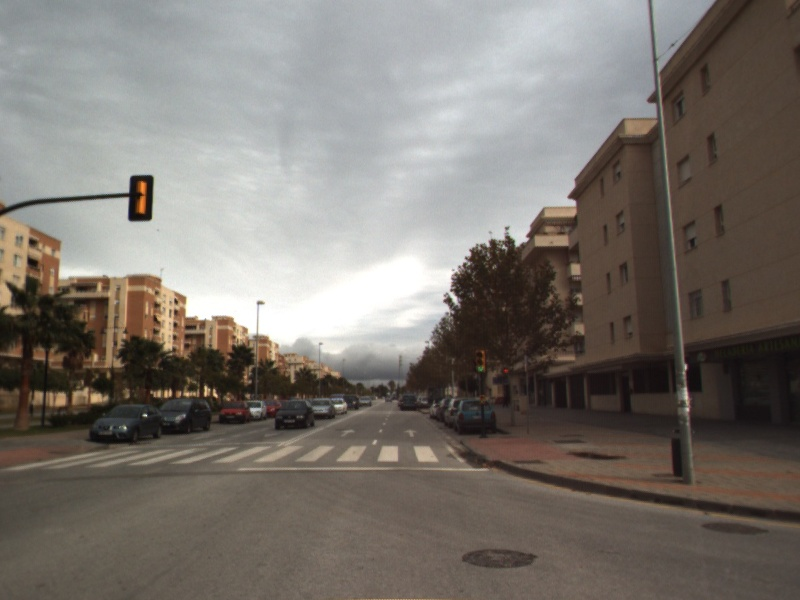STRAIGHT: (338, 427, 357, 438), (402, 427, 419, 438)
